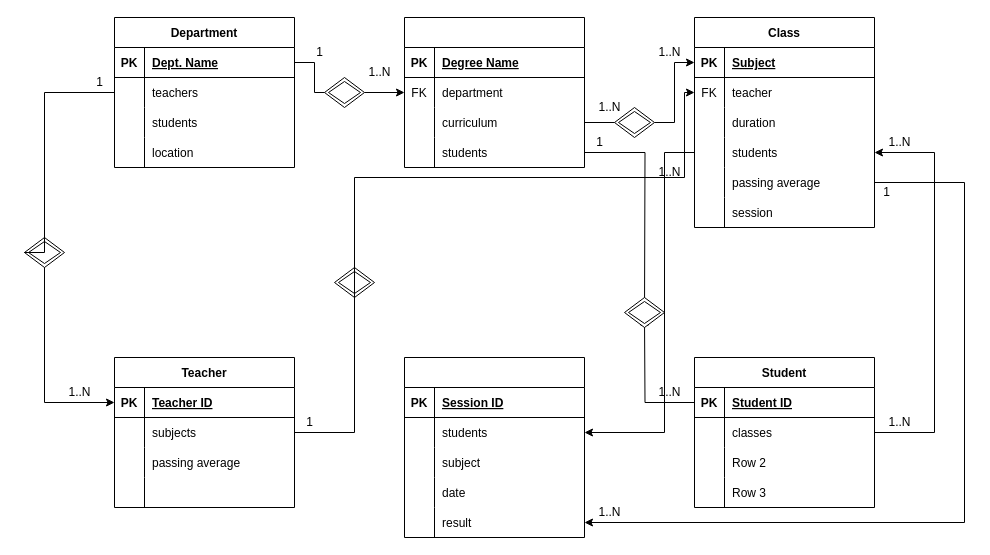
This 990x555 diagram has some shape labels left out. Each missing label, with the box of its shape:
Degree Course: (404, 16, 584, 168)
Exam Session: (404, 356, 584, 538)
